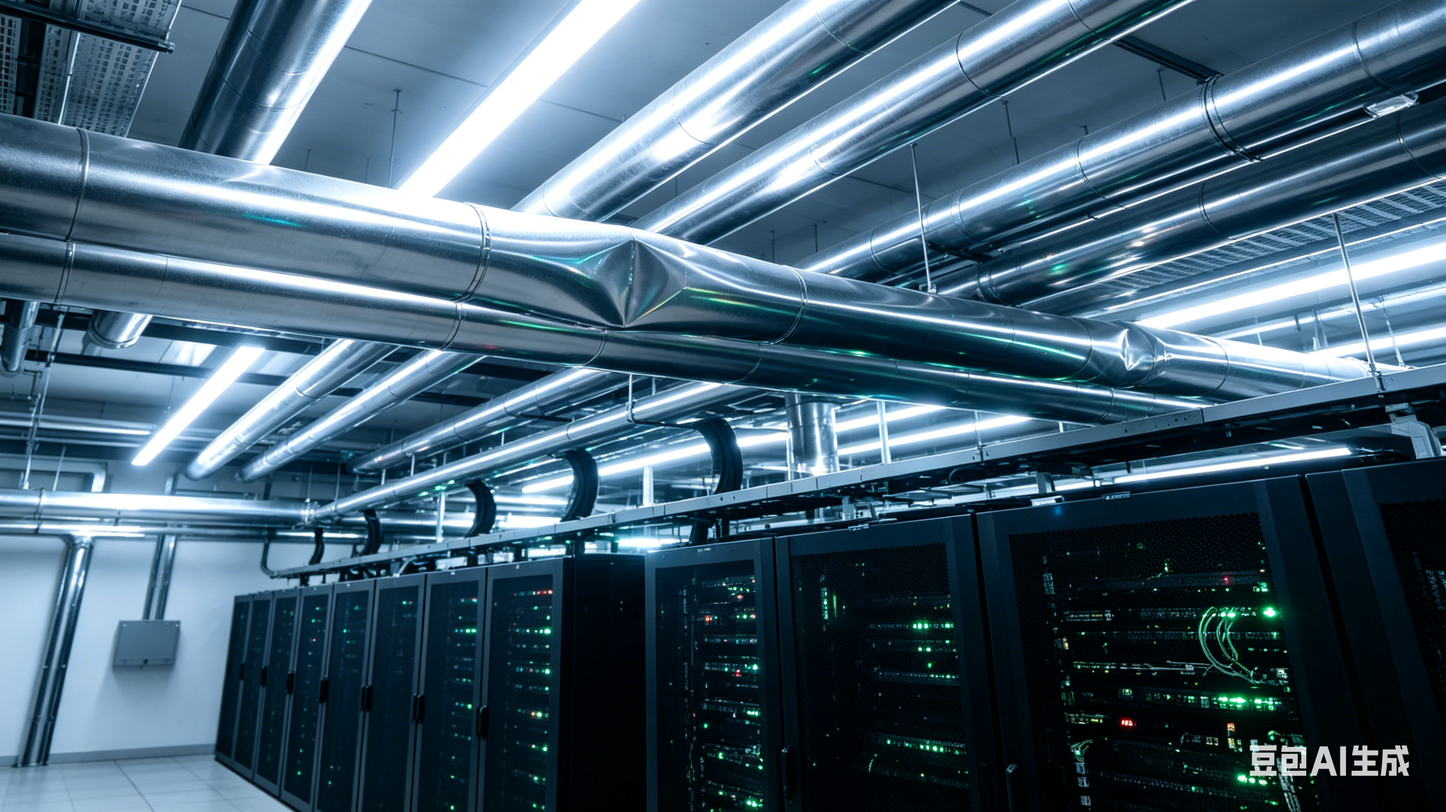Leakage: (573, 224, 692, 337), (1072, 312, 1171, 389)
